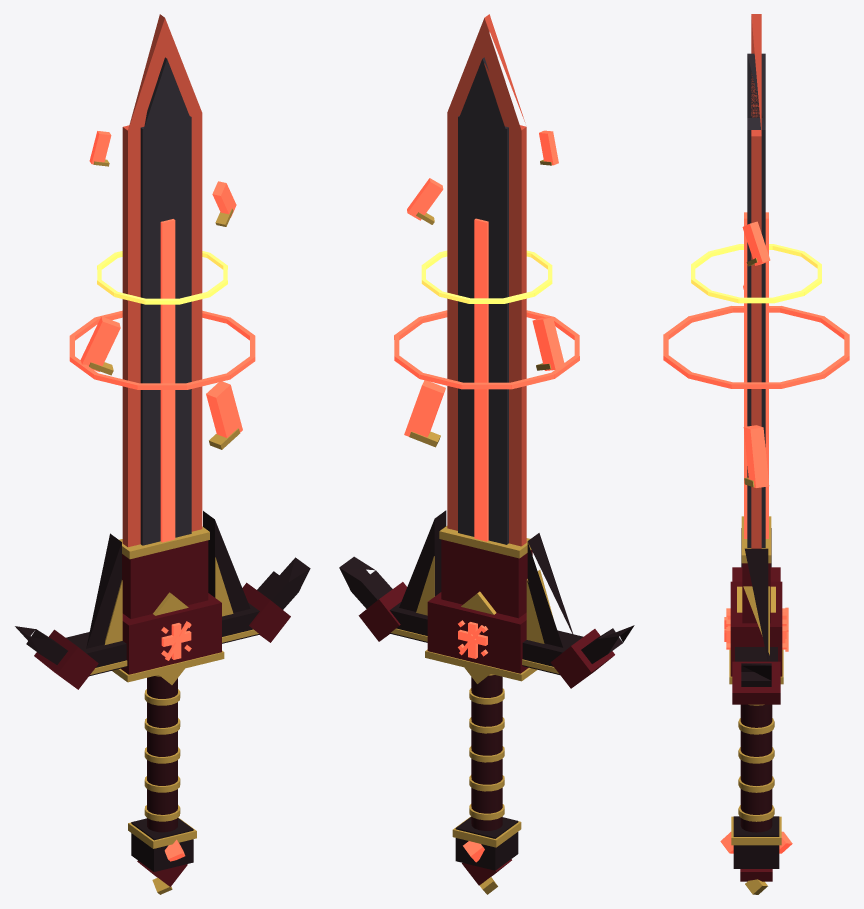
The picture shows the model from 3 angles, left to right: view 1: azimuth 30°, elevation 25°; view 2: azimuth 150°, elevation 25°; view 3: azimuth 270°, elevation 25°; orthographic projection.
Visible parts, largest first — view 1: heavenfall-claymore; view 2: heavenfall-claymore; view 3: heavenfall-claymore.
Boxes of the visible parts, x1,y1,x2,y2 form: heavenfall-claymore: (15,14,310,894); heavenfall-claymore: (339,14,634,894); heavenfall-claymore: (663,14,849,894).
Size of the model in its own units: 0.627 by 1.87 by 0.359.
